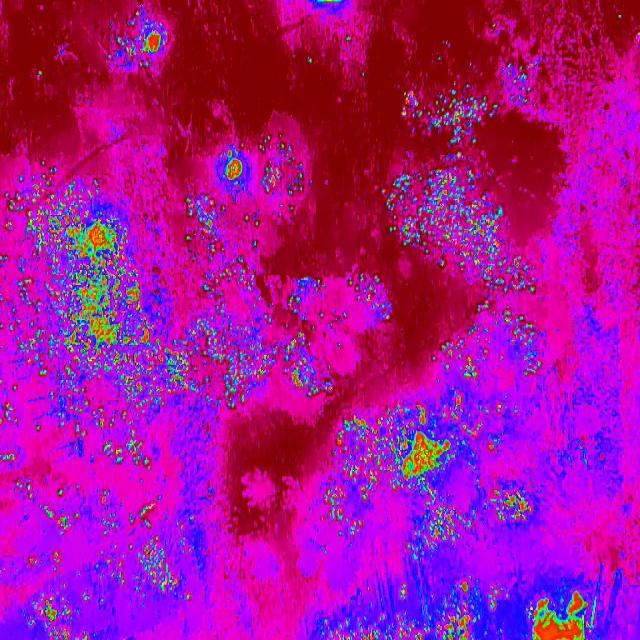fire: (0, 155, 227, 640), (311, 399, 640, 640), (200, 266, 388, 410), (386, 158, 546, 304), (181, 134, 311, 306), (436, 305, 546, 399), (398, 85, 502, 157), (106, 10, 176, 78)
